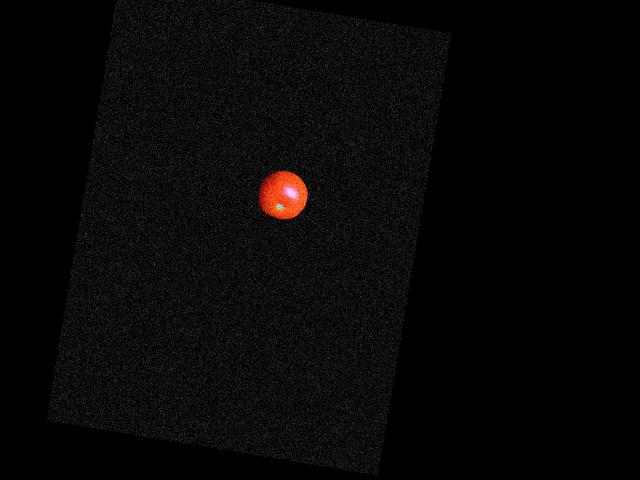tomato: (254, 166, 311, 222)
